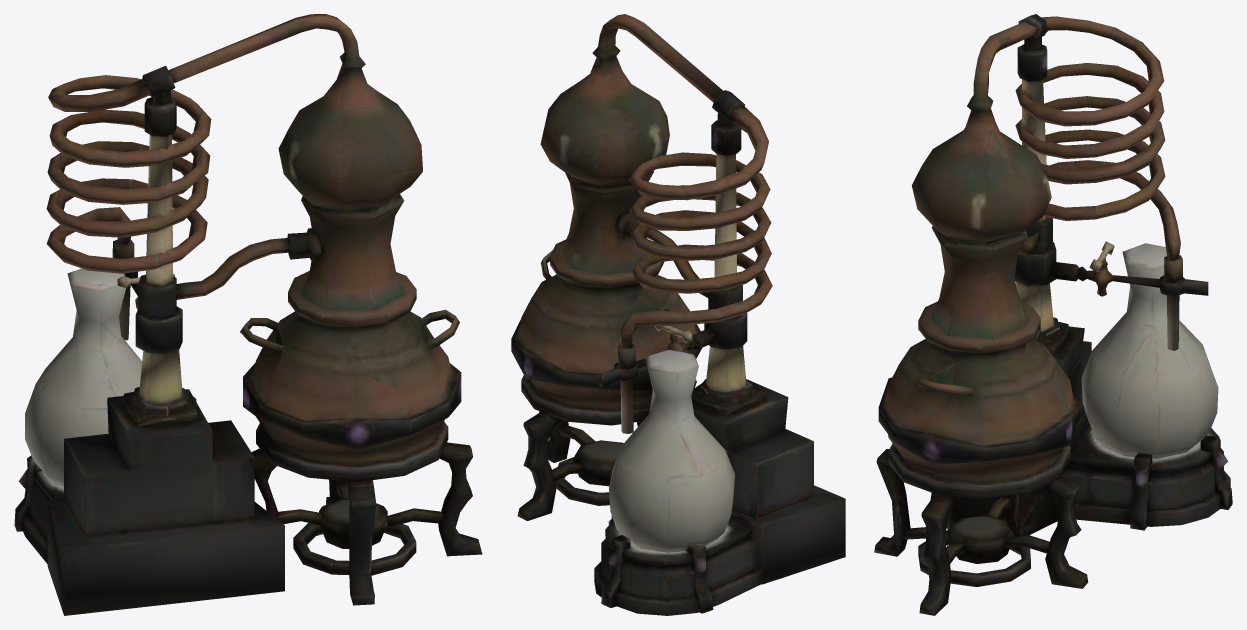
File: alch_alembic.glb
3 views of the same model, side by side, from view 1: azimuth 30°, elevation 25°; view 2: azimuth 150°, elevation 25°; view 3: azimuth 270°, elevation 25° (orthographic). The views are drawn at different scales.
Visible parts, largest first — view 1: tripo_node_f64bdd65-9d6c-4995-9e01-e629cc68e5f9; view 2: tripo_node_f64bdd65-9d6c-4995-9e01-e629cc68e5f9; view 3: tripo_node_f64bdd65-9d6c-4995-9e01-e629cc68e5f9.
Part boxes in pixels (x1,y1,x2,y2): tripo_node_f64bdd65-9d6c-4995-9e01-e629cc68e5f9: (14,14,482,615); tripo_node_f64bdd65-9d6c-4995-9e01-e629cc68e5f9: (511,14,845,615); tripo_node_f64bdd65-9d6c-4995-9e01-e629cc68e5f9: (874,14,1232,615).
Bounding box in the file's own units: 0.7363 × 0.998 × 0.6348.
1 material, 1 textured.
